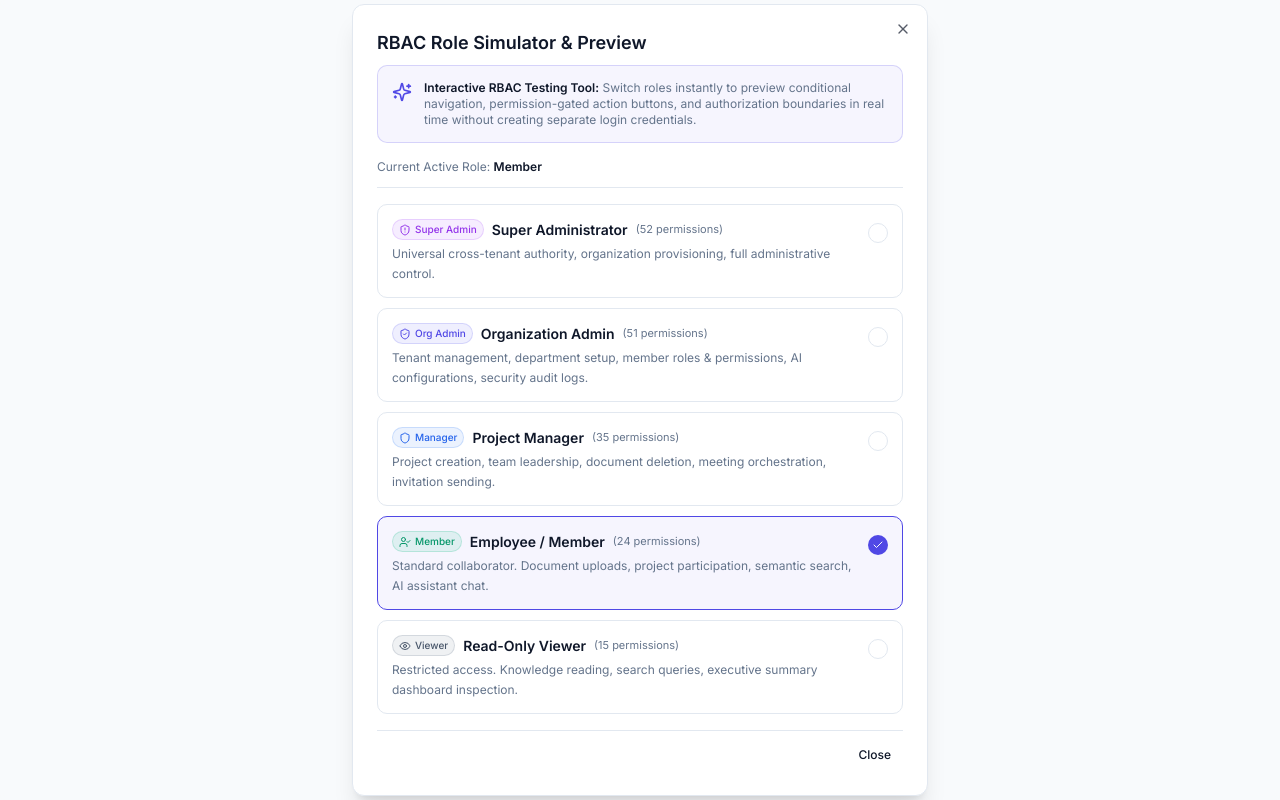
Test: Phase 1.6 Authorization UI Components › RoleSwitcherModal Component › allows switching to simulated roles and resetting to actual role
Check: the heading "RBAC Role Simulator & Preview" is shown, box [377,32,647,53]
Note: Click Organization Admin card
Click the text "Organization Admin" at (548, 334), box [481,324,615,344]
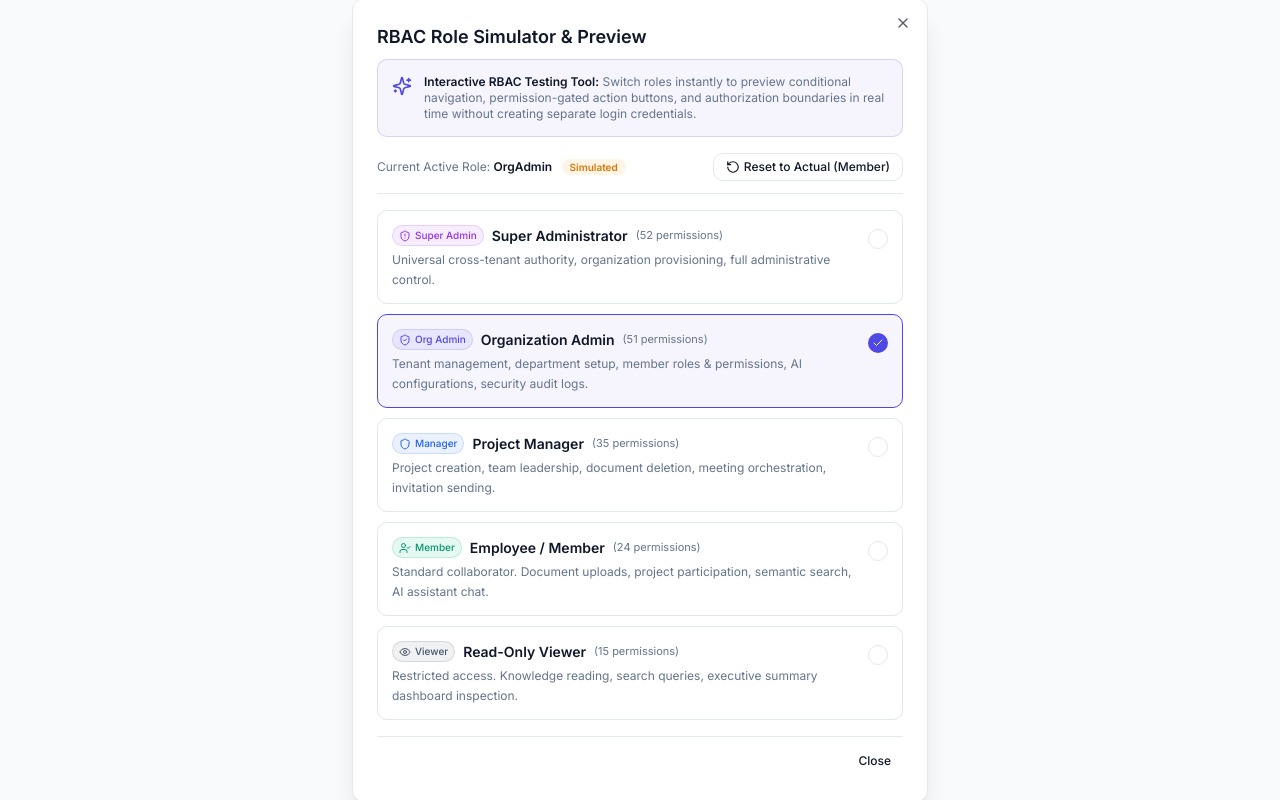
Check: the text "OrgAdmin" is shown, box [494,159,552,174]
